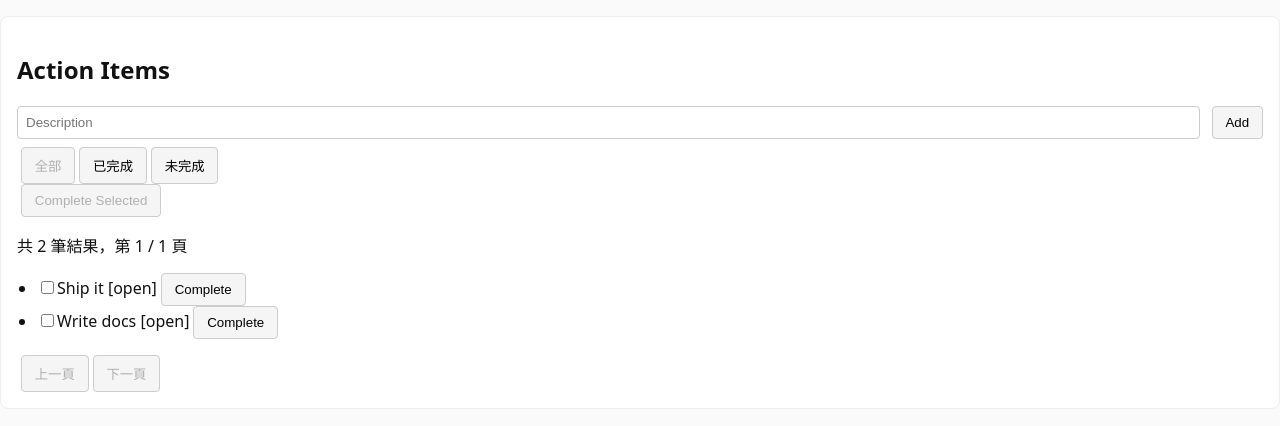
it: ActionItemsSection › bulk-completes selected action items
Expected: the list item "Ship it [open] Complete" is shown, top-left (41, 273), bottom-right (246, 306)
What coordinates should you click on to do the following:
click the checkbox named "Select Ship it"
I would click on:
 (48, 287)
Its box is top-left (41, 281), bottom-right (54, 294).
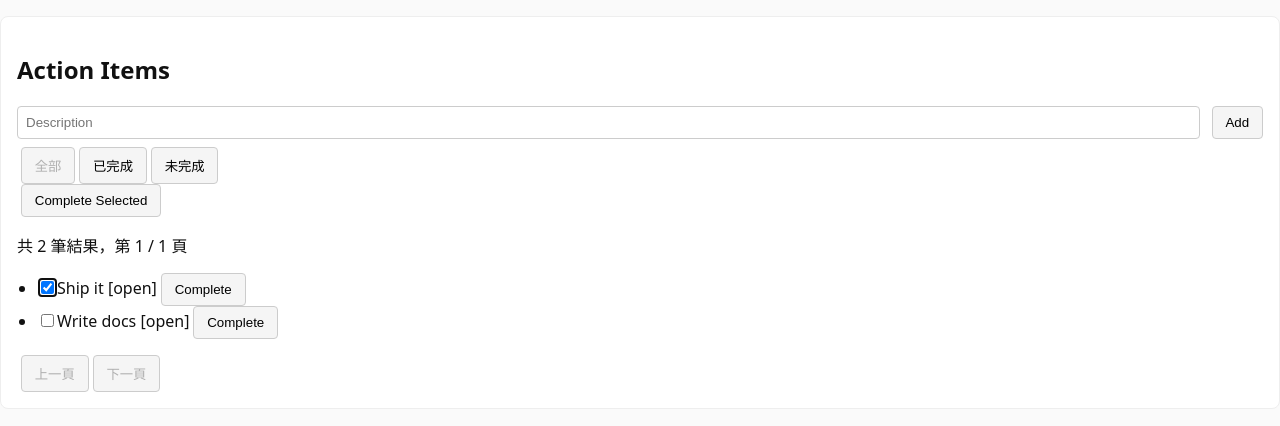
What coordinates should you click on to do the following:
click the checkbox named "Select Write docs"
I would click on:
 (48, 320)
Its box is top-left (41, 314), bottom-right (54, 327).
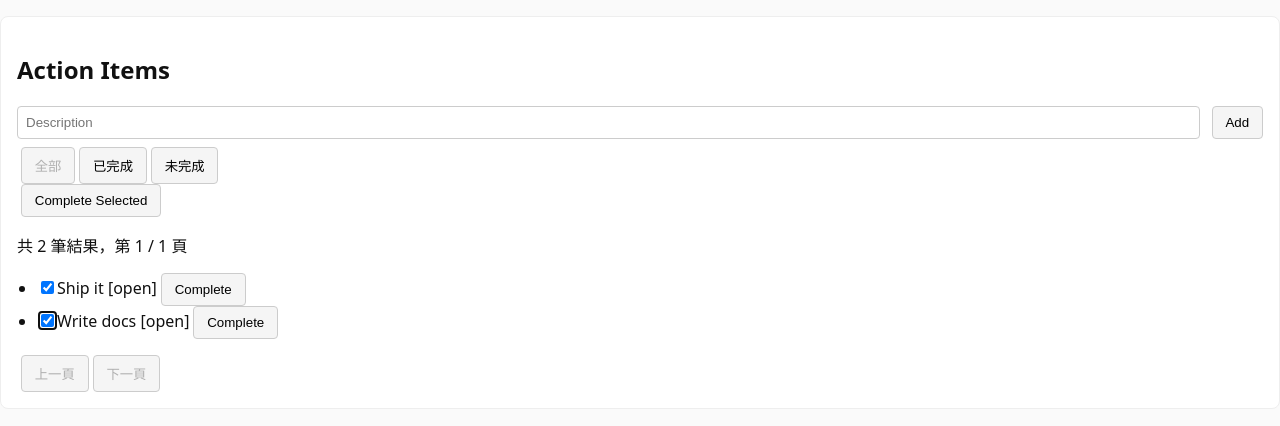
What coordinates should you click on to do the following:
click the button "Complete Selected"
I would click on:
 (91, 200)
Its box is top-left (21, 184), bottom-right (161, 217).
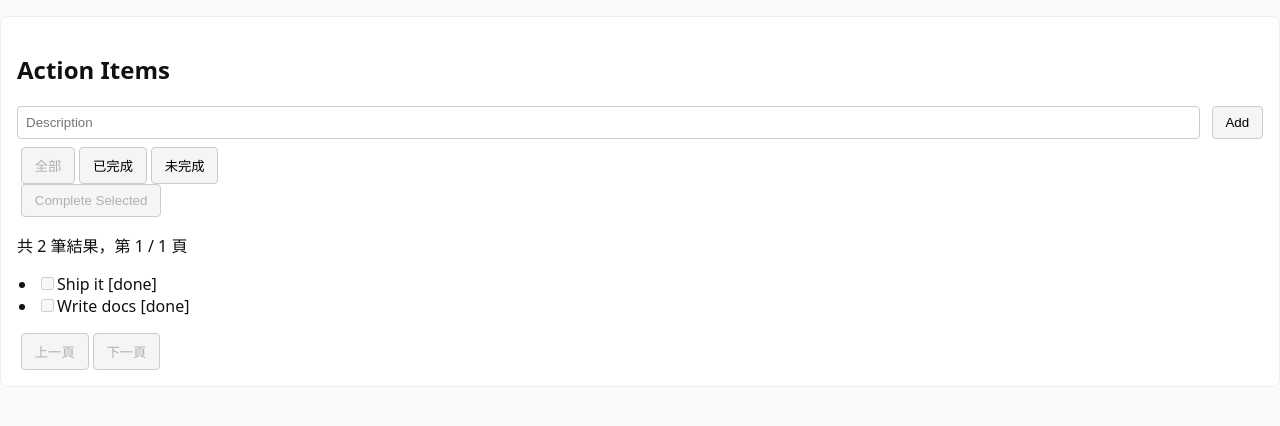
Expected: the list item "Ship it [done]" is shown, top-left (41, 273), bottom-right (157, 295)
Expected: the list item "Write docs [done]" is shown, top-left (41, 295), bottom-right (189, 317)
